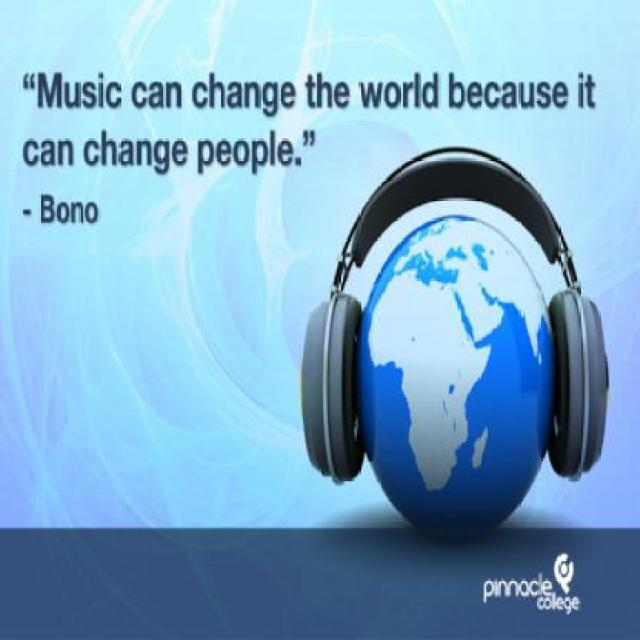earphone: (291, 148, 620, 482)
